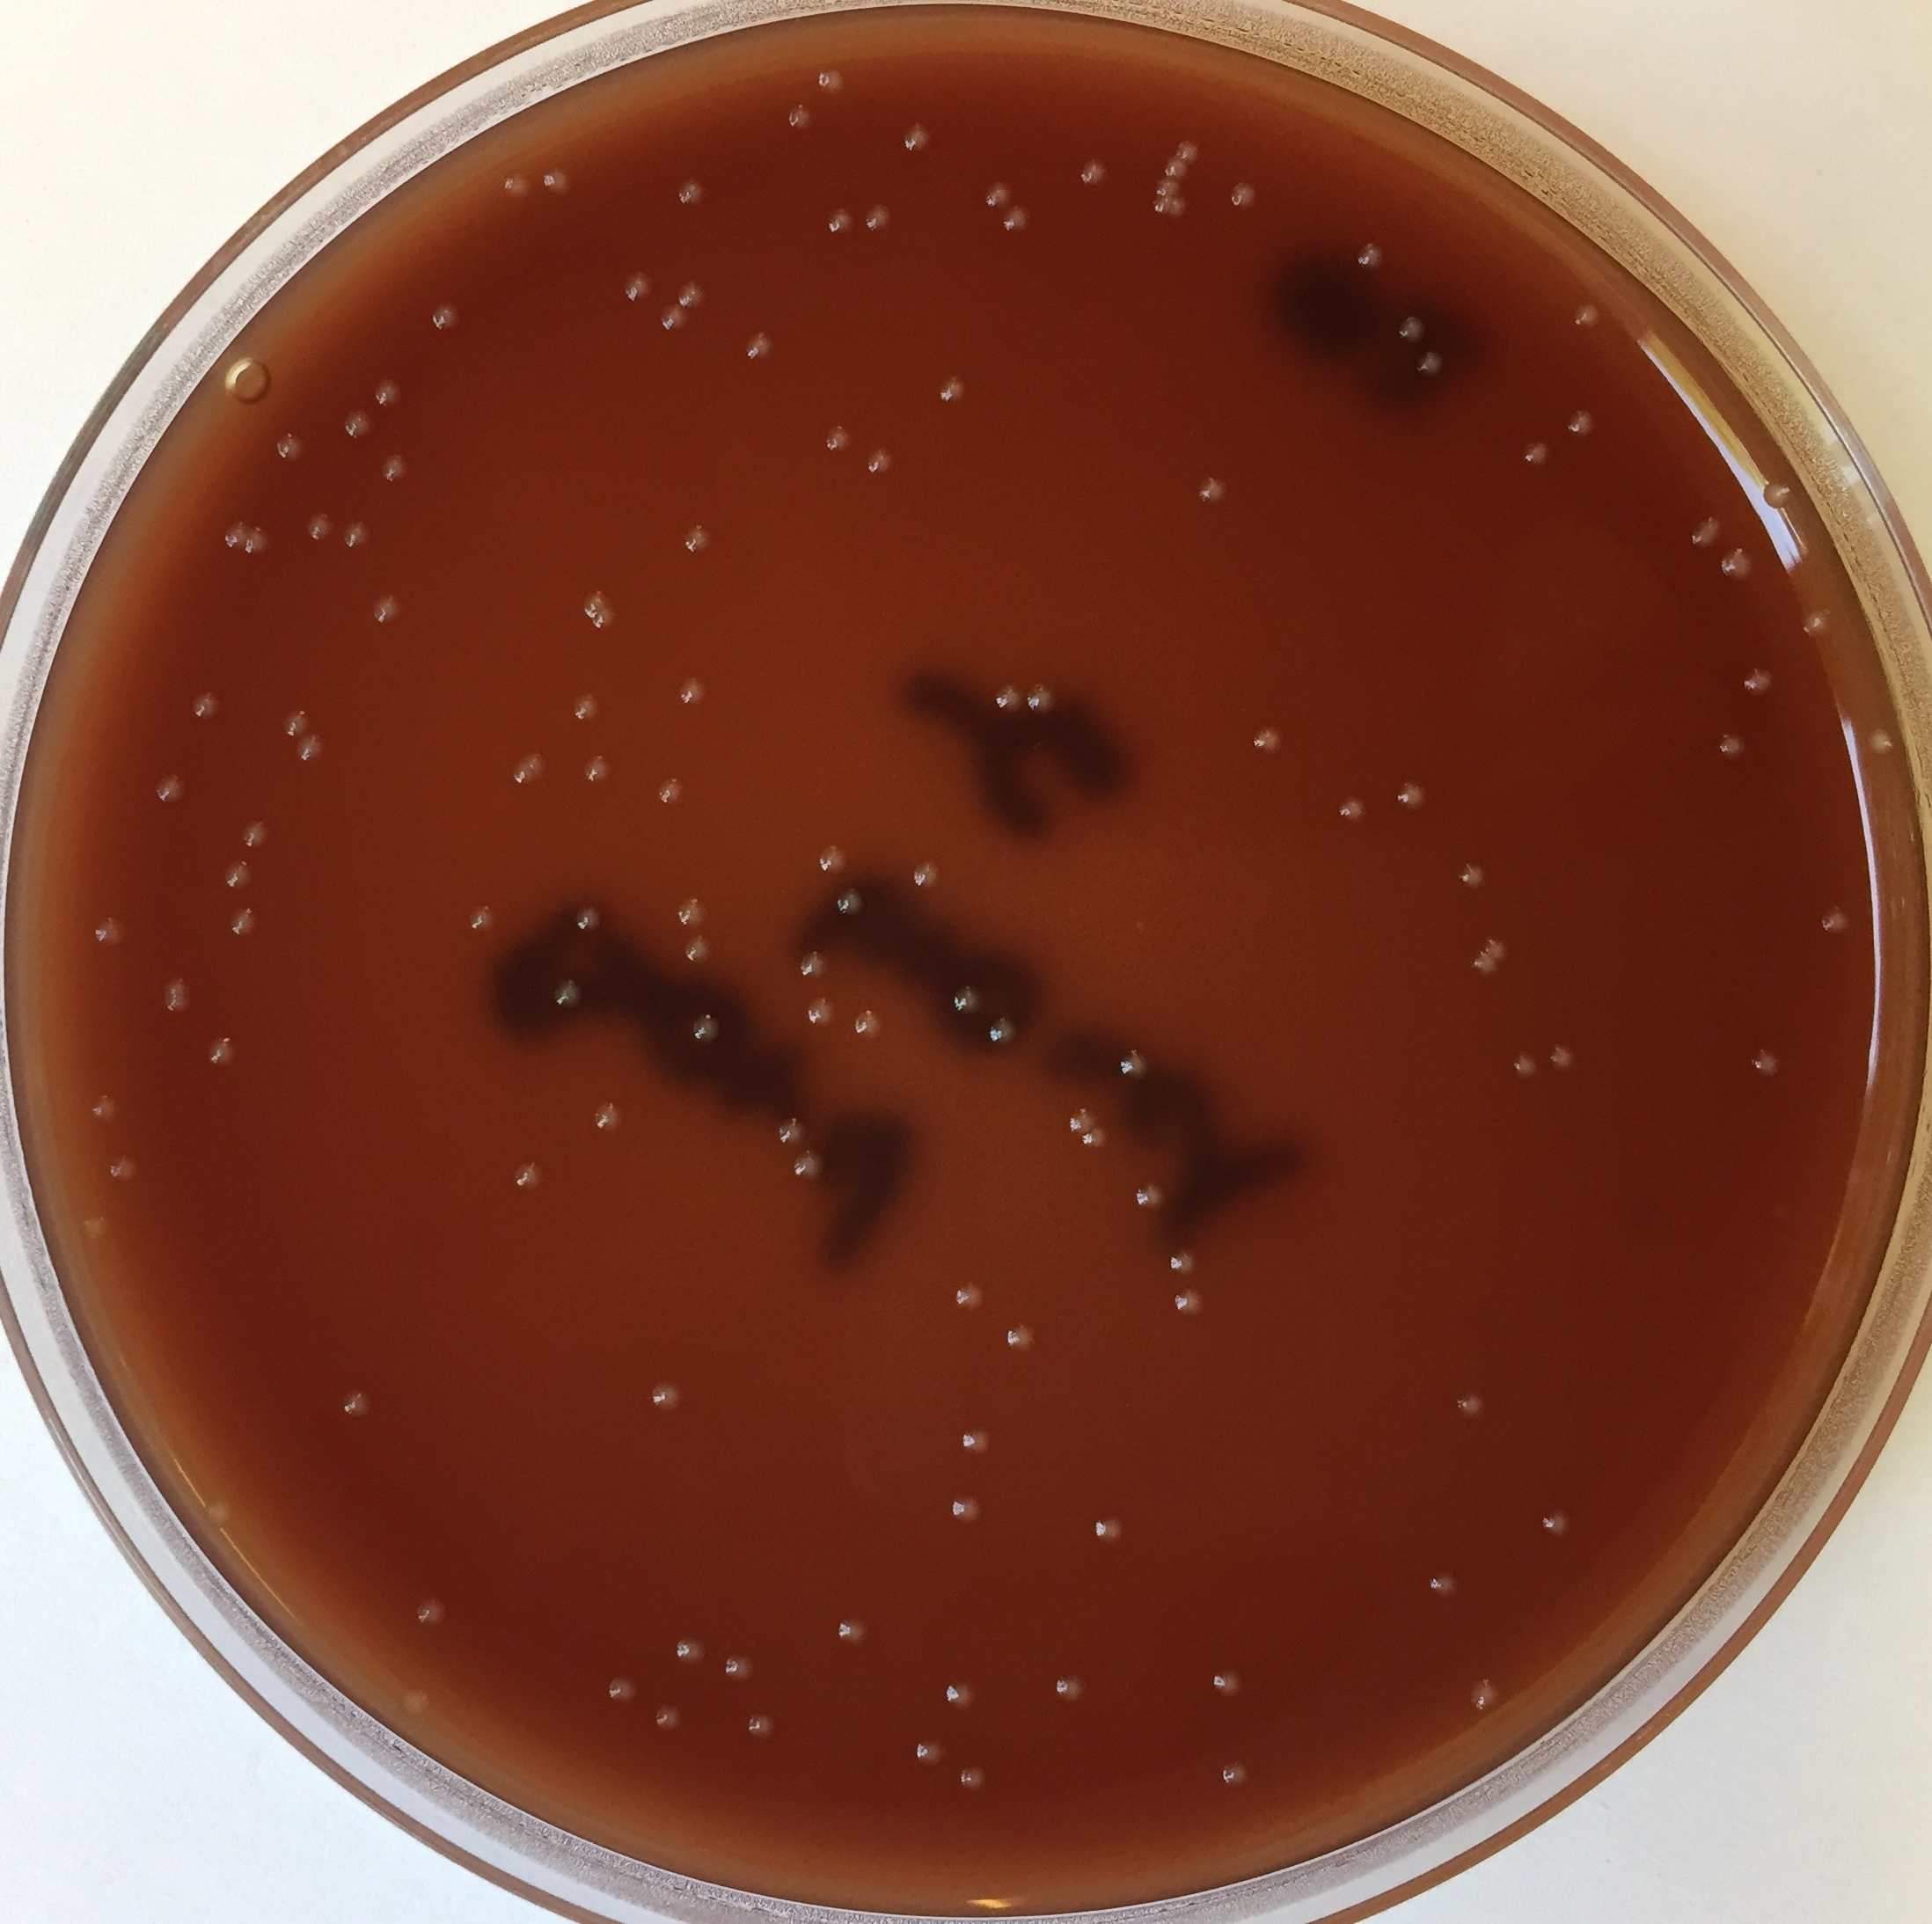sp06: (1523, 1499, 1576, 1558), (1112, 1047, 1162, 1082), (224, 902, 264, 944), (160, 974, 199, 1018), (647, 1376, 687, 1417), (790, 1147, 830, 1188), (1091, 1512, 1130, 1550), (582, 751, 617, 793), (414, 1593, 453, 1630), (1022, 680, 1061, 717), (680, 520, 716, 560), (954, 1283, 984, 1328), (240, 814, 275, 853), (620, 266, 656, 305), (1220, 1753, 1253, 1794), (1451, 1387, 1488, 1422), (950, 1492, 987, 1528), (1396, 775, 1431, 812), (950, 985, 985, 1022), (220, 856, 257, 892), (342, 405, 377, 442), (673, 277, 710, 312), (1562, 407, 1597, 444), (1712, 731, 1750, 765), (650, 773, 689, 807), (1800, 604, 1839, 638), (605, 1674, 645, 1706), (943, 1679, 978, 1714), (1132, 1177, 1167, 1212), (982, 1013, 1017, 1048), (1227, 178, 1262, 213), (1761, 476, 1796, 511), (1426, 1572, 1460, 1609), (1170, 1283, 1207, 1316), (799, 948, 832, 985), (832, 888, 869, 921), (569, 691, 603, 728), (862, 444, 899, 477), (1248, 724, 1287, 756), (268, 430, 307, 462), (552, 974, 582, 1015), (836, 1614, 871, 1647), (1052, 1672, 1088, 1706), (589, 1099, 622, 1135), (804, 994, 837, 1029), (204, 1032, 238, 1068), (338, 520, 374, 553), (989, 682, 1024, 715), (652, 1698, 689, 1730), (1003, 1320, 1040, 1351), (93, 916, 130, 948), (370, 379, 407, 411), (740, 329, 772, 366), (901, 123, 938, 155), (1720, 546, 1750, 585), (959, 1425, 992, 1459), (672, 1635, 707, 1667), (199, 1498, 231, 1533), (462, 902, 497, 934), (189, 685, 219, 722), (1414, 347, 1451, 377), (1740, 666, 1773, 698), (910, 858, 943, 890), (1689, 518, 1720, 551), (1465, 1679, 1500, 1709), (682, 932, 712, 967), (383, 449, 412, 485), (1394, 312, 1430, 342), (1195, 474, 1232, 502), (723, 1653, 754, 1684), (689, 1013, 721, 1045), (851, 1008, 883, 1040), (293, 729, 324, 761), (673, 675, 705, 707), (746, 1711, 779, 1741), (913, 1739, 947, 1769), (1211, 1669, 1245, 1698), (677, 895, 707, 929), (776, 1114, 806, 1147), (104, 1156, 137, 1186), (372, 597, 405, 627), (864, 203, 894, 236), (936, 370, 966, 403), (280, 703, 308, 738), (1066, 1105, 1098, 1135), (1546, 1041, 1576, 1073), (1749, 1047, 1780, 1077), (1336, 793, 1368, 823), (307, 511, 337, 543), (656, 301, 686, 333), (675, 176, 707, 206), (509, 1161, 538, 1195), (580, 588, 608, 622), (501, 171, 534, 199), (982, 178, 1010, 211), (1079, 157, 1107, 190), (1520, 437, 1548, 470), (340, 1390, 370, 1420), (573, 904, 603, 934), (786, 102, 816, 132), (825, 204, 855, 234), (1172, 136, 1202, 166), (957, 1764, 989, 1792), (1167, 1249, 1199, 1277), (86, 1094, 118, 1122), (539, 166, 571, 194), (1003, 203, 1031, 234), (1356, 241, 1387, 270), (1081, 1126, 1111, 1154), (428, 301, 458, 329), (825, 425, 855, 453), (1574, 300, 1602, 329), (153, 773, 185, 800), (816, 65, 843, 97), (1821, 907, 1849, 936), (818, 844, 844, 874), (1467, 955, 1500, 978), (1155, 199, 1183, 226), (1481, 936, 1507, 964), (81, 1216, 108, 1244), (525, 749, 552, 777), (220, 522, 247, 550), (1454, 862, 1484, 886), (509, 761, 536, 788), (1511, 1055, 1539, 1080), (241, 529, 266, 557), (1163, 159, 1192, 181), (1151, 185, 1186, 199)
